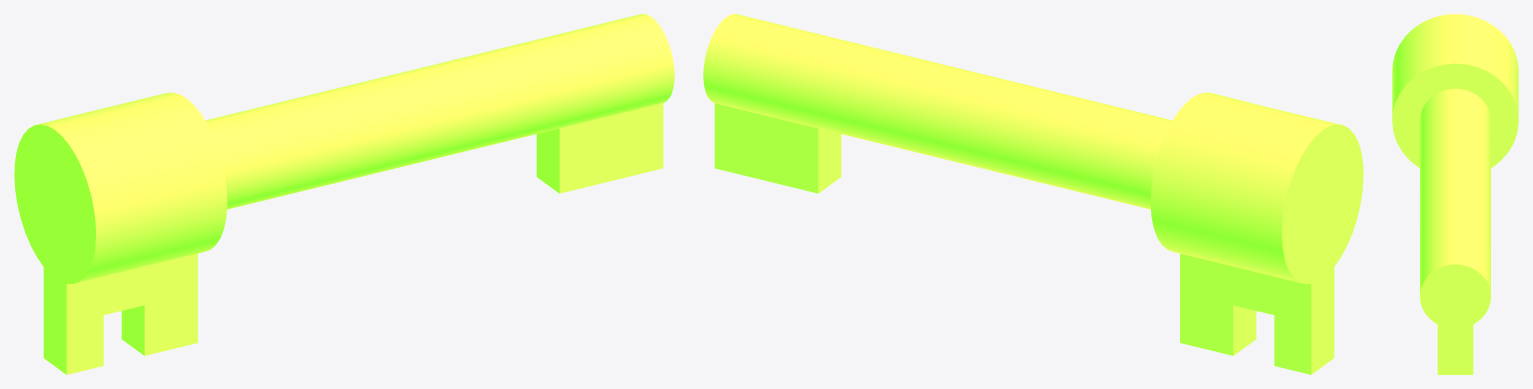
The model's file is clef2avert.gltf.
The picture shows the model from 3 angles, left to right: view 1: azimuth 30°, elevation 25°; view 2: azimuth 150°, elevation 25°; view 3: azimuth 270°, elevation 25°; orthographic projection. The views are drawn at different scales.
Visible parts, largest first — view 1: cle; view 2: cle; view 3: cle.
Boxes of the visible parts, left/top/right/bottom form: cle: left=14, top=14, right=674, bottom=374; cle: left=703, top=14, right=1363, bottom=374; cle: left=1392, top=14, right=1518, bottom=374.
Size of the model in its own units: 0.15 by 0.0568 by 0.0356.
